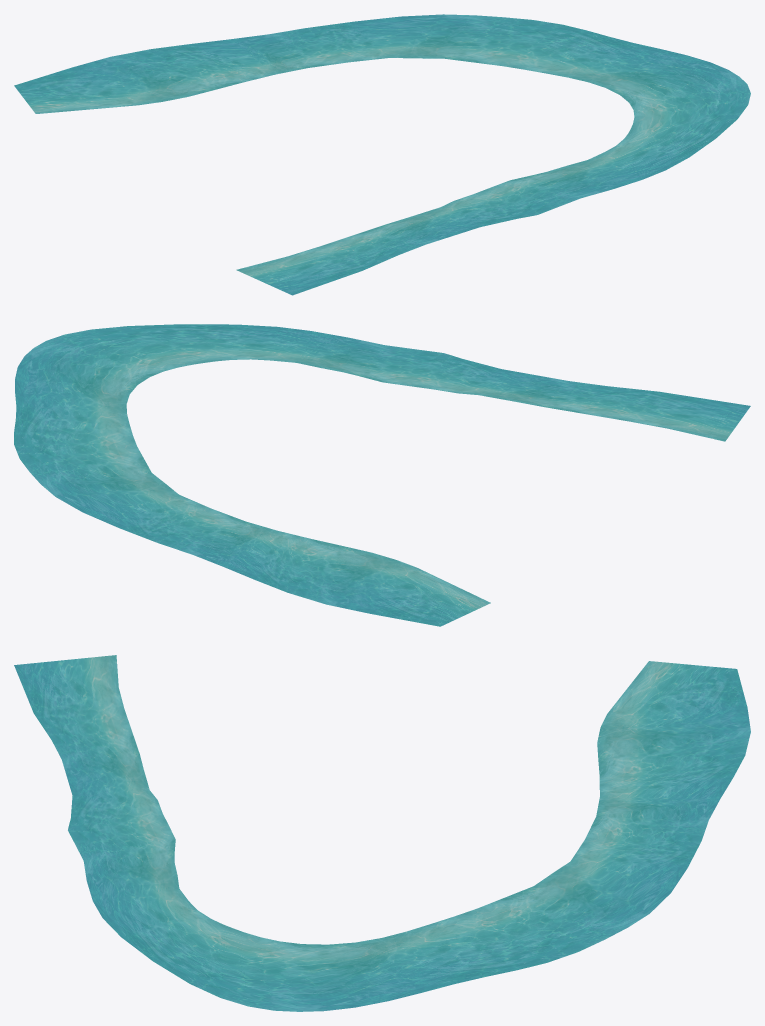
The model's file is New_York_track_river.dae.
3 renders of one model, top to bottom at view 1: azimuth 30°, elevation 25°; view 2: azimuth 150°, elevation 25°; view 3: azimuth 270°, elevation 25°, orthographic. The views are drawn at different scales.
Parts seen in each view (by area): view 1: New_York_track_river; view 2: New_York_track_river; view 3: New_York_track_river.
Part boxes in pixels (box(x1,y1,x2,y2)): New_York_track_river: box(14, 14, 750, 295); New_York_track_river: box(14, 324, 750, 626); New_York_track_river: box(14, 655, 750, 1011).
Size of the model in its own units: 95.4 by 83.26 by 7.27e-06.
1 material, 1 textured.
